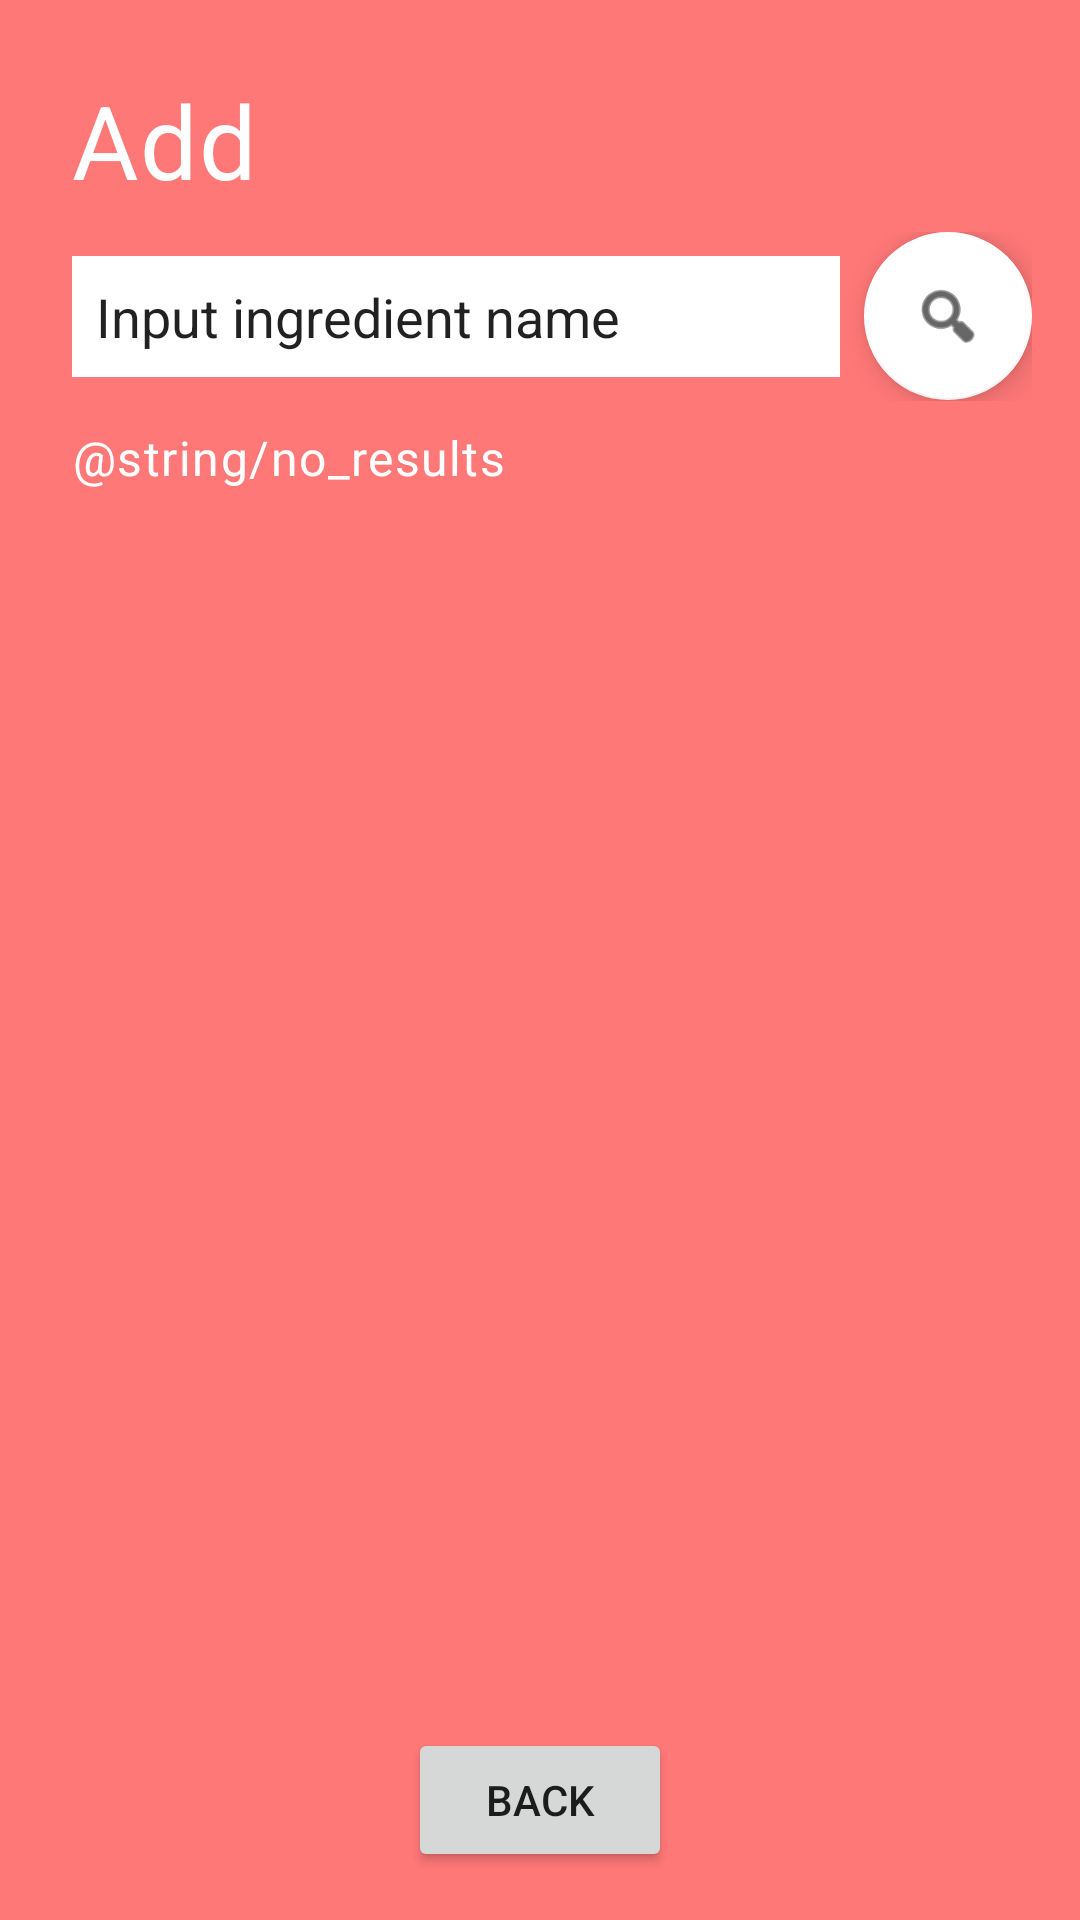

Locate icon controls on the screen. Image size 1080px x 1920px, boxes as rect(x1, y1, x2, y2).
search: rect(864, 232, 1032, 400)
